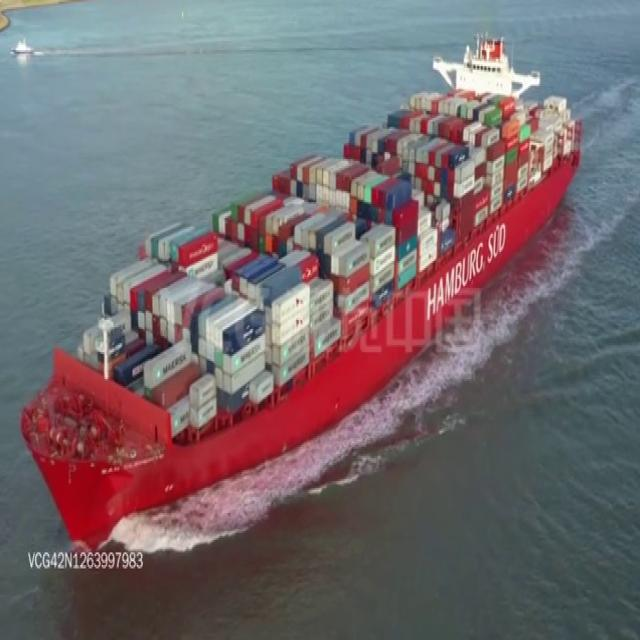cargoship: (25, 28, 588, 532)
